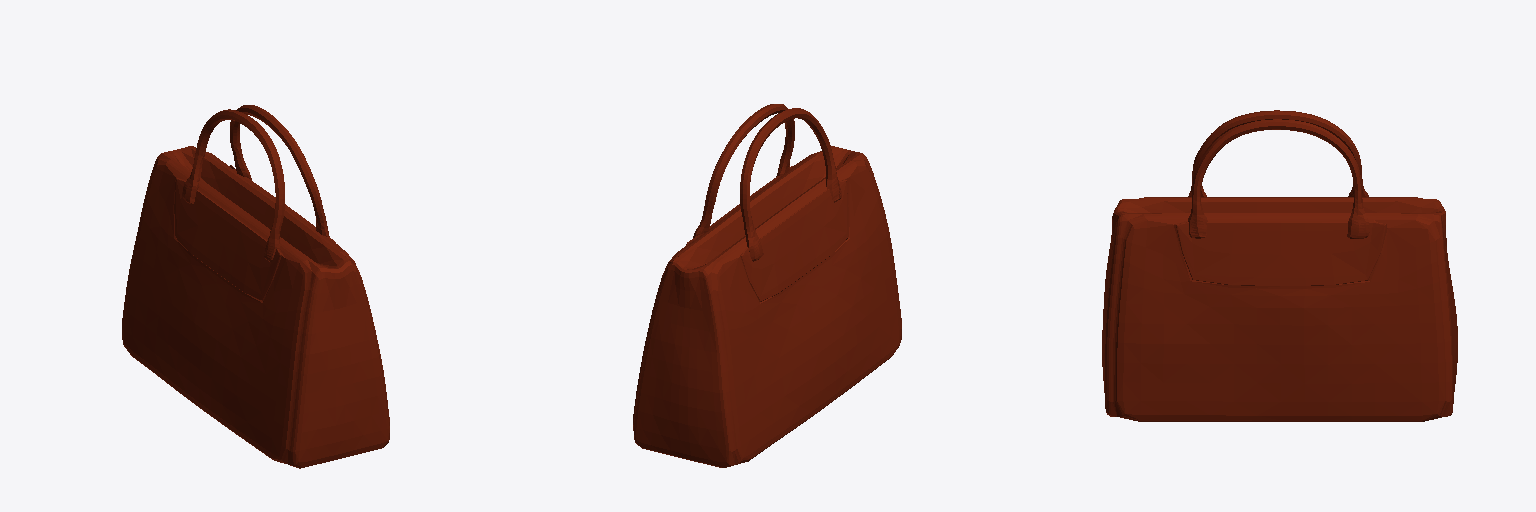
Rendered from bolsa3.obj.
3 renders of one model, left to right at view 1: azimuth 30°, elevation 25°; view 2: azimuth 150°, elevation 25°; view 3: azimuth 270°, elevation 25°, orthographic.
Size of the model in its own units: 10.33 by 24.55 by 28.09.